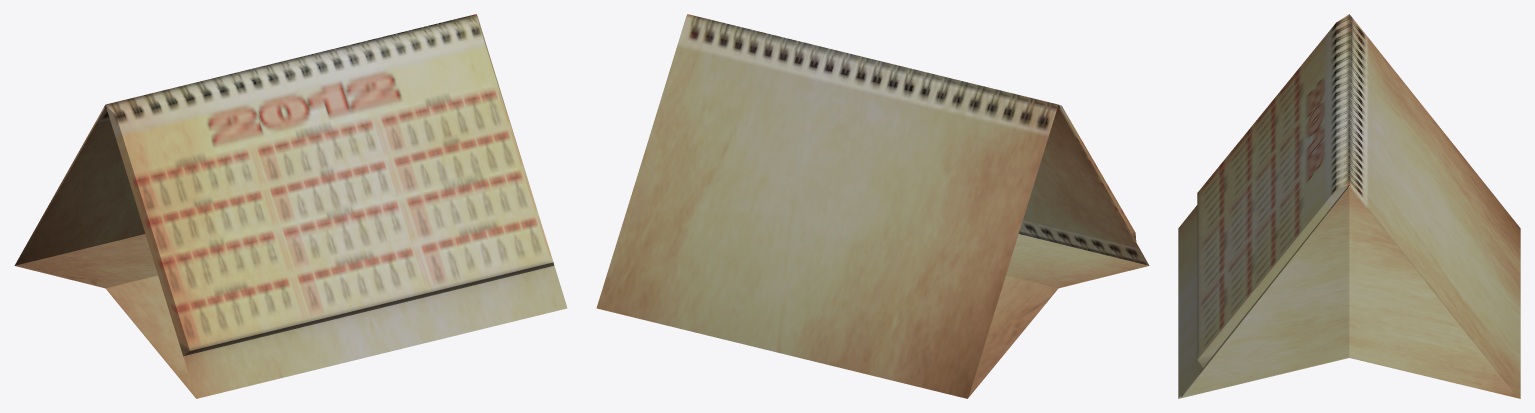
The model's file is ShenFuXiuXiShi_01_taili_01.FBX.
The picture shows the model from 3 angles, left to right: view 1: azimuth 30°, elevation 25°; view 2: azimuth 150°, elevation 25°; view 3: azimuth 270°, elevation 25°; orthographic projection. The views are drawn at different scales.
Parts seen in each view (by area): view 1: ShenFuXiuXiShi_01_taili_01; view 2: ShenFuXiuXiShi_01_taili_01; view 3: ShenFuXiuXiShi_01_taili_01.
Part boxes in pixels (x1,y1,x2,y2): ShenFuXiuXiShi_01_taili_01: (14,14,567,398); ShenFuXiuXiShi_01_taili_01: (596,14,1149,398); ShenFuXiuXiShi_01_taili_01: (1178,14,1520,398).
Size of the model in its own units: 144 by 84.06 by 122.
